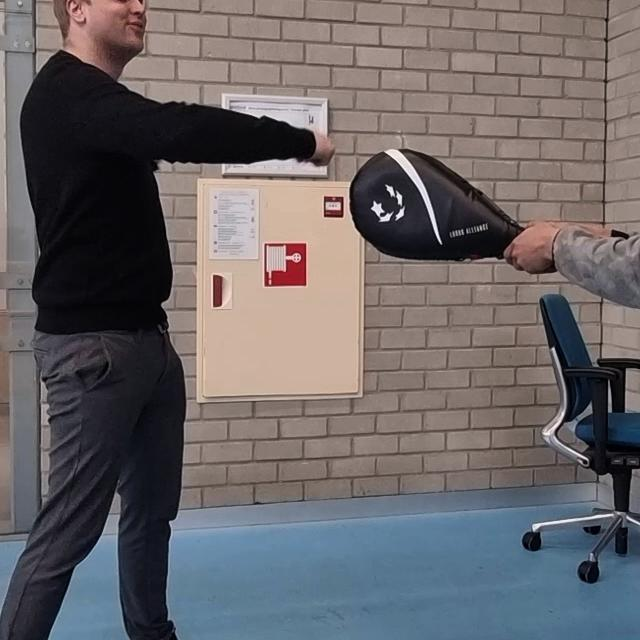paddle: (350, 149, 526, 261)
